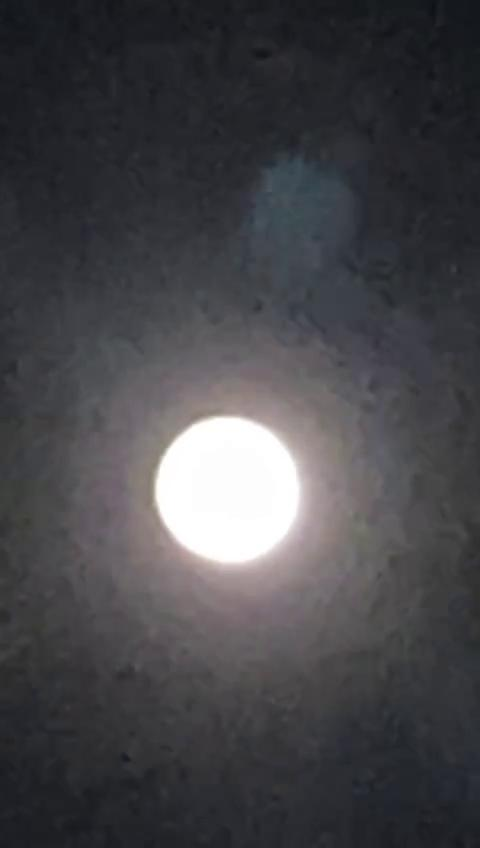moon: (144, 411, 309, 570)
